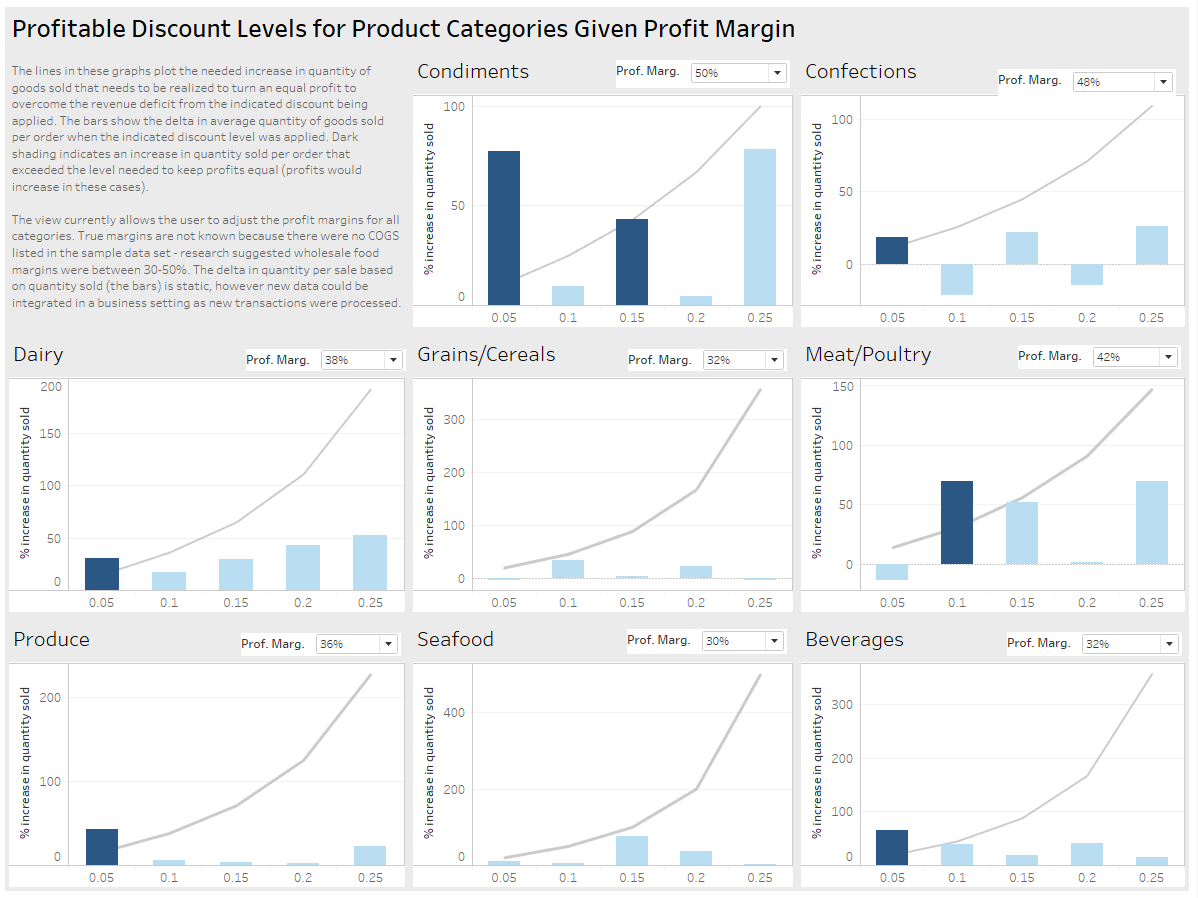

The page's visual inventory and layout, read from the dashboard file:
{"tool":"tableau","page":{"name":"Dashboard 1","canvas":[1200,900],"ordinal":0},"visuals":[{"type":"title","box":[8,8,1184,41]},{"type":"text","box":[8,49,403.7,283]},{"type":"worksheet","title":"Condiments","mark":"Bar","rows":["Measure filter bev (copy)","Condiments"],"cols":["pm"],"box":[411.7,49,388.3,283]},{"type":"worksheet","title":"Confections","mark":"Bar","rows":["Measure filter cond (copy)","Confections"],"cols":["pm"],"box":[800,49,392,283]},{"type":"parameter","param":"[Parameters].[Parameter 1 (copy)]","box":[619,61,174,28]},{"type":"parameter","param":"[Parameters].[Parameter cond (copy)]","box":[1001,70,178,29]},{"type":"worksheet","title":"Dairy","mark":"Bar","rows":["Measure filter conf (copy)","DairyProducts"],"cols":["pm"],"box":[8,332,403.7,285]},{"type":"worksheet","title":"Grains/Cereals","mark":"Bar","rows":["Measure filter dairy (copy)","Grains/Cereals"],"cols":["pm"],"box":[411.7,332,388.3,285]},{"type":"worksheet","title":"Meat/Poultry","mark":"Bar","rows":["Measure filter grains (copy)","Meat/Poultry"],"cols":["pm"],"box":[800,332,392,285]},{"type":"parameter","param":"[Parameters].[Parameter grains (copy)]","box":[1021,346,163,24]},{"type":"parameter","param":"[Parameters].[Parameter conf (copy)]","box":[249,350,160,22]},{"type":"parameter","param":"[Parameters].[Parameter dairy (copy)]","box":[631,350,159,22]},{"type":"worksheet","title":"Produce","mark":"Bar","rows":["Measure filter meat (copy)","Produce"],"cols":["pm"],"box":[8,617,403.7,275]},{"type":"worksheet","title":"Seafood","mark":"Bar","rows":["Measure filter prod (copy)","Seafood"],"cols":["pm"],"box":[411.7,617,388.3,275]},{"type":"worksheet","title":"Beverages","mark":"Bar","rows":["Calculation_2031967886186770432","Beverages"],"cols":["pm"],"box":[800,617,392,275]},{"type":"parameter","param":"[Parameters].[Parameter produce (copy)]","box":[630,630,160,25]},{"type":"parameter","param":"[Parameters].[Parameter 1]","box":[1010,633,175,24]},{"type":"parameter","param":"[Parameters].[Parameter meat (copy)]","box":[244,634,160,23]}]}

Visuals, with their boxes in screenshot pixels (x1, y1, x2, y2), scaled from the page's 1200x900 canvas onto the 1198x898 screenshot:
title: 8, 8, 1190, 49
text: 8, 49, 411, 331
"Condiments" worksheet (Bar marks): 411, 49, 799, 331
"Confections" worksheet (Bar marks): 799, 49, 1190, 331
parameter: 618, 61, 792, 89
parameter: 999, 70, 1177, 99
"Dairy" worksheet (Bar marks): 8, 331, 411, 616
"Grains/Cereals" worksheet (Bar marks): 411, 331, 799, 616
"Meat/Poultry" worksheet (Bar marks): 799, 331, 1190, 616
parameter: 1019, 345, 1182, 369
parameter: 249, 349, 408, 371
parameter: 630, 349, 789, 371
"Produce" worksheet (Bar marks): 8, 616, 411, 890
"Seafood" worksheet (Bar marks): 411, 616, 799, 890
"Beverages" worksheet (Bar marks): 799, 616, 1190, 890
parameter: 629, 629, 789, 654
parameter: 1008, 632, 1183, 656
parameter: 244, 633, 403, 656
